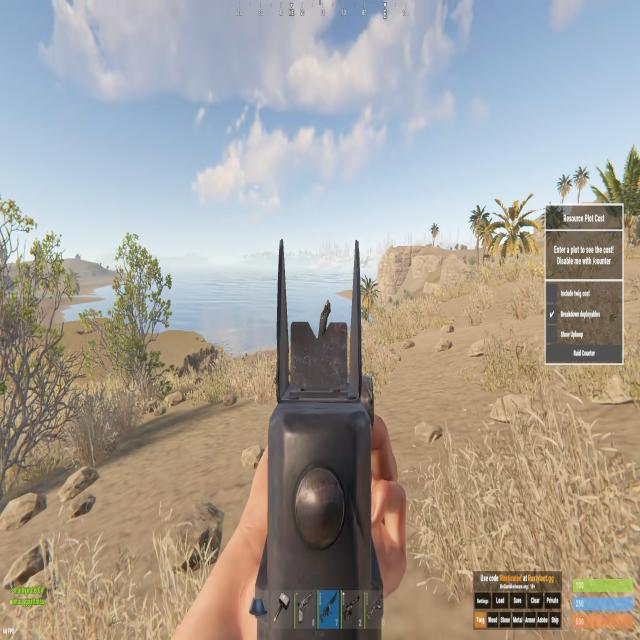Player: (316, 296, 333, 343)
